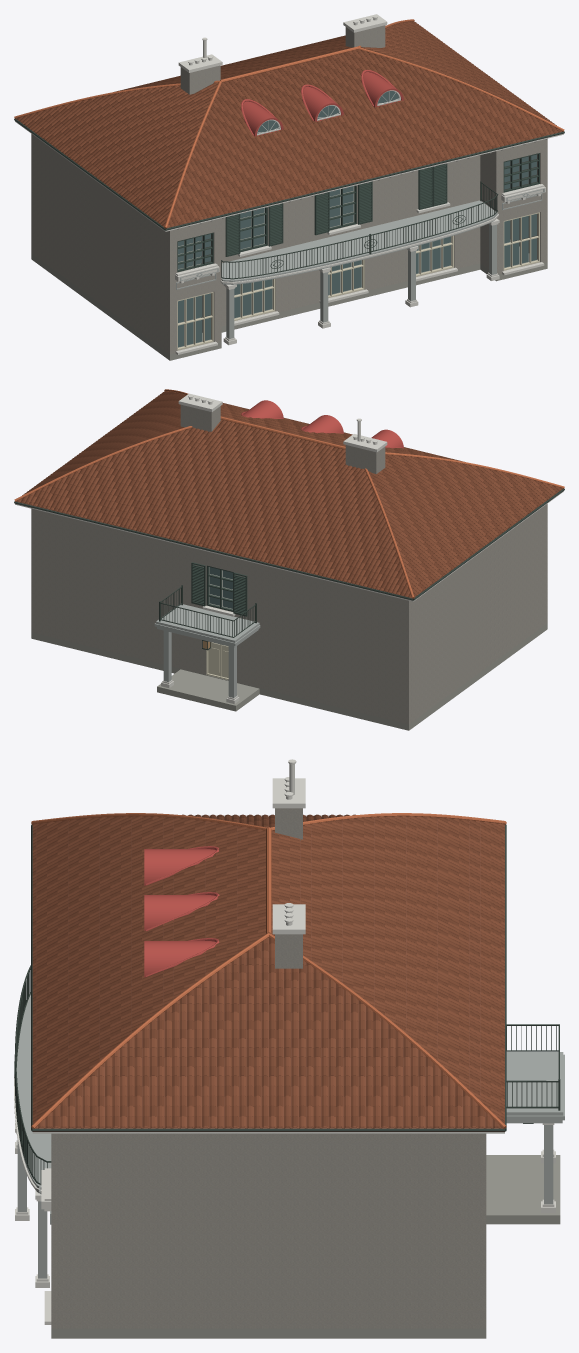
Rendered from xuhui-soong-ching-ling-residence-raw.glb.
The picture shows the model from 3 angles, top to bottom: view 1: azimuth 30°, elevation 25°; view 2: azimuth 150°, elevation 25°; view 3: azimuth 270°, elevation 25°; orthographic projection. The views are drawn at different scales.
Visible parts, largest first — view 1: 上海宋庆龄故居主楼; view 2: 上海宋庆龄故居主楼; view 3: 上海宋庆龄故居主楼.
Part boxes in pixels (x1,y1,x2,y2): 上海宋庆龄故居主楼: (14, 14, 564, 360); 上海宋庆龄故居主楼: (14, 389, 564, 730); 上海宋庆龄故居主楼: (14, 759, 564, 1338).
Bounding box in the file's own units: 23.31 × 13.28 × 17.73.
16 materials, 1 textured.
